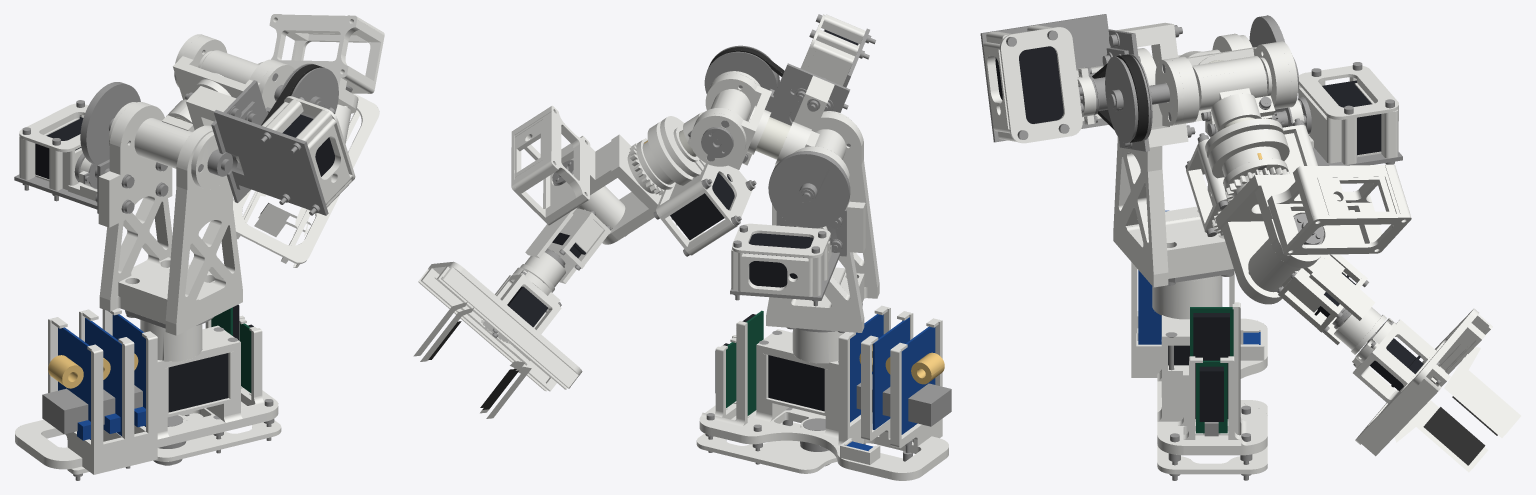
File: AFR2_Brazo_v17_Blanco.glb
3 renders of one model, left to right at view 1: azimuth 30°, elevation 25°; view 2: azimuth 150°, elevation 25°; view 3: azimuth 270°, elevation 25°, orthographic. The views are drawn at different scales.
Parts seen in each view (by area): view 1: mesh_base-fixed, mesh_j1, mesh_j2, mesh_j4, mesh_j6, mesh_j3, mesh_jaw-right, mesh_j5; view 2: mesh_base-fixed, mesh_j2, mesh_j1, mesh_j3, mesh_j4, mesh_j6, mesh_j5, mesh_jaw-right, mesh_jaw-left; view 3: mesh_j2, mesh_base-fixed, mesh_j1, mesh_j4, mesh_j3, mesh_j6, mesh_j5, mesh_jaw-left, mesh_jaw-right.
Part boxes in pixels (left/top/right/bottom): mesh_base-fixed: left=15, top=304, right=281, bottom=480; mesh_j1: left=14, top=100, right=242, bottom=335; mesh_j2: left=80, top=34, right=355, bottom=215; mesh_j4: left=269, top=14, right=384, bottom=113; mesh_j6: left=233, top=93, right=379, bottom=267; mesh_j3: left=201, top=50, right=338, bottom=118; mesh_jaw-right: left=254, top=203, right=311, bottom=236; mesh_j5: left=334, top=85, right=352, bottom=143; mesh_base-fixed: left=696, top=305, right=951, bottom=480; mesh_j2: left=690, top=14, right=875, bottom=228; mesh_j1: left=730, top=111, right=879, bottom=333; mesh_j3: left=636, top=45, right=779, bottom=256; mesh_j4: left=511, top=105, right=664, bottom=244; mesh_j6: left=418, top=248, right=582, bottom=391; mesh_j5: left=520, top=160, right=626, bottom=292; mesh_jaw-right: left=460, top=308, right=531, bottom=418; mesh_jaw-left: left=413, top=302, right=473, bottom=361; mesh_j2: left=980, top=14, right=1297, bottom=151; mesh_base-fixed: left=1131, top=210, right=1267, bottom=480; mesh_j1: left=1113, top=33, right=1402, bottom=287; mesh_j4: left=1215, top=164, right=1411, bottom=304; mesh_j3: left=1105, top=54, right=1317, bottom=236; mesh_j6: left=1332, top=308, right=1492, bottom=456; mesh_j5: left=1248, top=213, right=1386, bottom=354; mesh_jaw-left: left=1439, top=334, right=1520, bottom=437; mesh_jaw-right: left=1394, top=400, right=1488, bottom=472.
Bounding box in the file's own units: 0.3298 × 0.2807 × 0.3091.
